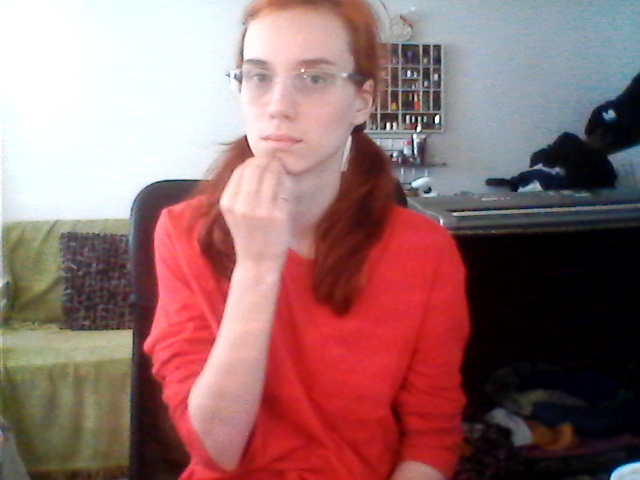c: (218, 137, 309, 265)
